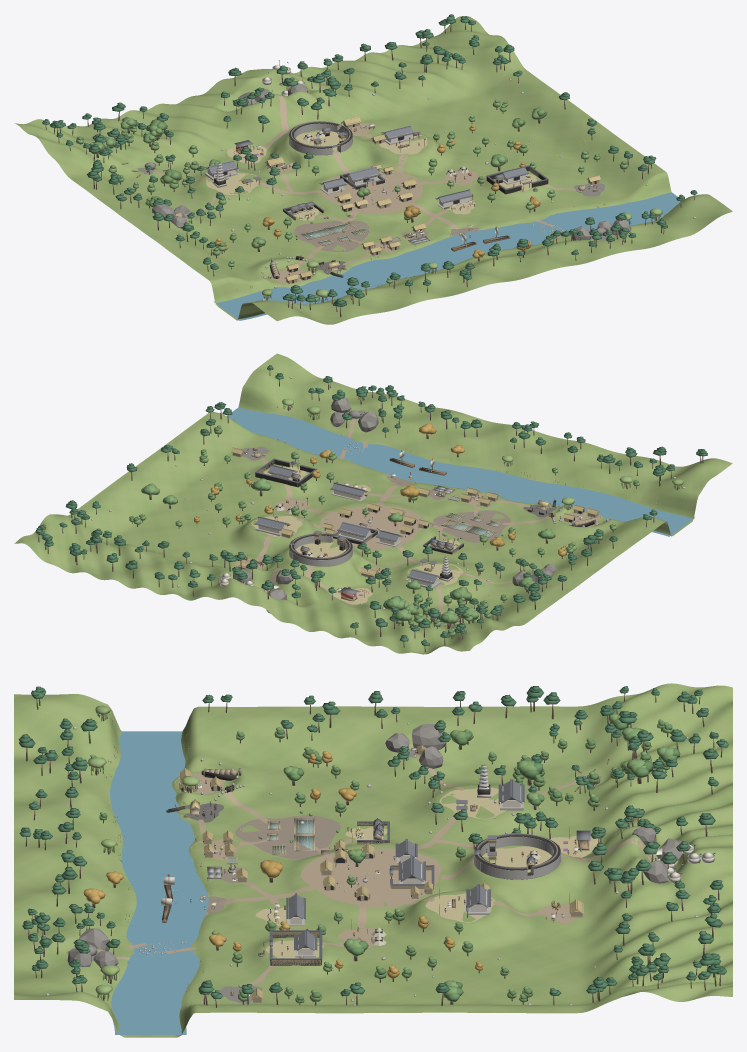
Rendered from goryeo.glb.
3 renders of one model, top to bottom at view 1: azimuth 30°, elevation 25°; view 2: azimuth 150°, elevation 25°; view 3: azimuth 270°, elevation 25°, orthographic. The views are drawn at different scales.
Parts seen in each view (by area): view 1: ground, static_pine, river, static_dirt, static_leaf2, static_stone, static_dry, static_bark, static_mud, static_thatch, static_leaf_autumn, static_leaf (+4 smaller); view 2: ground, river, static_pine, static_dirt, static_leaf2, static_stone, static_dry, static_bark, static_leaf, static_mud, static_thatch, static_leaf_autumn (+4 smaller); view 3: ground, river, static_pine, static_dirt, static_leaf2, static_dry, static_stone, static_leaf, static_bark, static_mud, static_leaf_autumn, static_thatch (+6 smaller).
Boxes of the visible parts, left/top/right/bottom form: ground: left=14, top=16, right=732, bottom=324; static_pine: left=42, top=14, right=697, bottom=306; river: left=214, top=192, right=680, bottom=320; static_dirt: left=154, top=95, right=599, bottom=284; static_leaf2: left=76, top=99, right=628, bottom=301; static_stone: left=73, top=79, right=695, bottom=304; static_dry: left=206, top=131, right=664, bottom=302; static_bark: left=45, top=23, right=694, bottom=317; static_mud: left=294, top=220, right=478, bottom=251; static_thatch: left=265, top=116, right=600, bottom=281; static_leaf_autumn: left=214, top=125, right=540, bottom=258; static_leaf: left=77, top=100, right=627, bottom=297; ground: left=14, top=353, right=732, bottom=654; river: left=226, top=407, right=694, bottom=536; static_pine: left=35, top=365, right=707, bottom=646; static_dirt: left=232, top=419, right=601, bottom=614; static_leaf2: left=129, top=425, right=639, bottom=636; static_stone: left=91, top=376, right=685, bottom=643; static_dry: left=251, top=403, right=684, bottom=604; static_bark: left=38, top=370, right=703, bottom=652; static_leaf: left=129, top=427, right=637, bottom=633; static_mud: left=386, top=476, right=510, bottom=542; static_thatch: left=231, top=448, right=599, bottom=575; static_leaf_autumn: left=194, top=423, right=568, bottom=556; ground: left=14, top=683, right=732, bottom=1037; river: left=110, top=731, right=208, bottom=1034; static_pine: left=18, top=686, right=728, bottom=998; static_dirt: left=97, top=745, right=678, bottom=1002; static_leaf2: left=90, top=713, right=676, bottom=1003; static_dry: left=104, top=718, right=599, bottom=1014; static_stone: left=43, top=714, right=698, bottom=1005; static_leaf: left=91, top=721, right=680, bottom=1001; static_bark: left=25, top=693, right=722, bottom=1007; static_mud: left=206, top=815, right=341, bottom=913; static_leaf_autumn: left=83, top=751, right=482, bottom=978; static_thatch: left=180, top=769, right=583, bottom=999.
Bounding box in the file's own units: 260 × 25.12 × 260.
